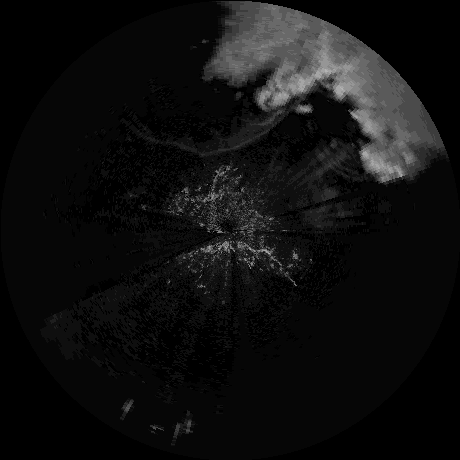frontgust: (207, 96, 302, 157)
